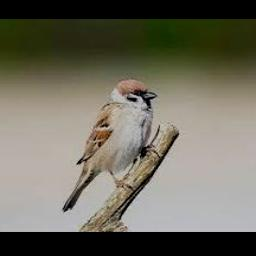Sparrow: (63, 78, 156, 211)
